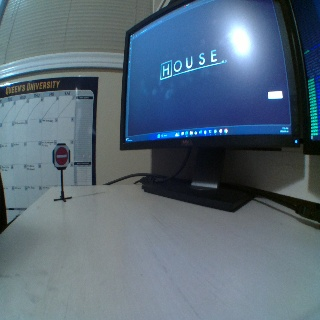sign_noentry: (53, 145, 69, 166)
